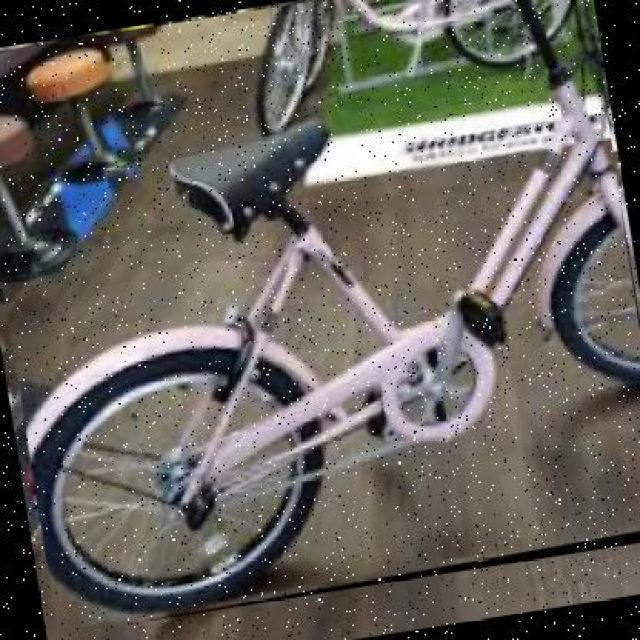bicycle: (1, 1, 639, 638)
